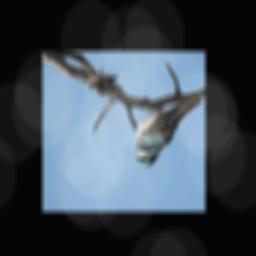Swallow: (135, 97, 203, 167)
